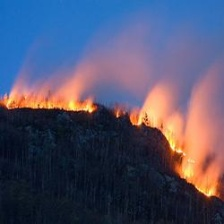fire: (4, 83, 181, 124), (159, 129, 223, 200)
